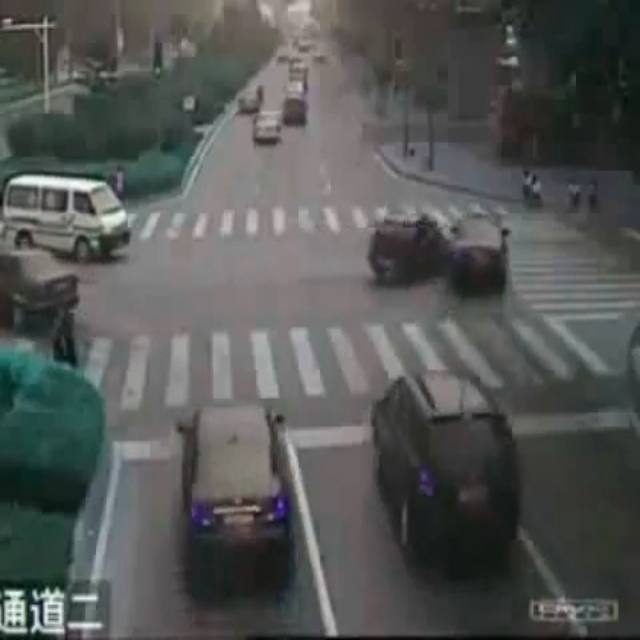acc: (358, 203, 515, 293)
